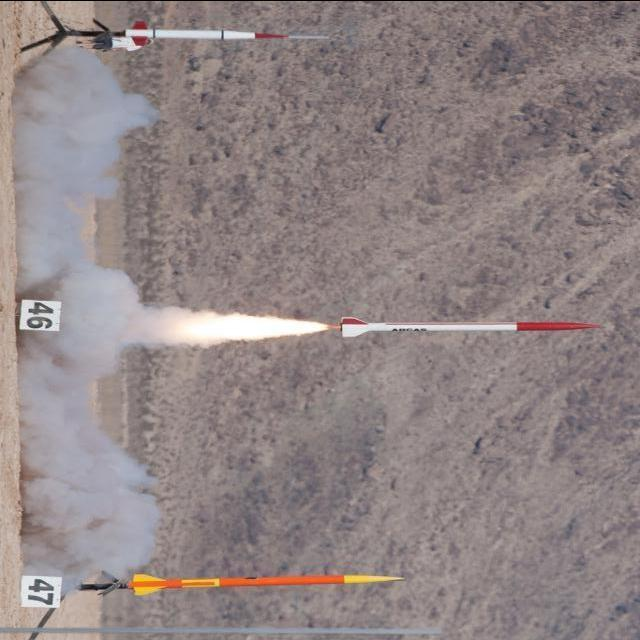missile: (112, 10, 332, 57), (329, 309, 603, 346), (126, 568, 406, 599)
